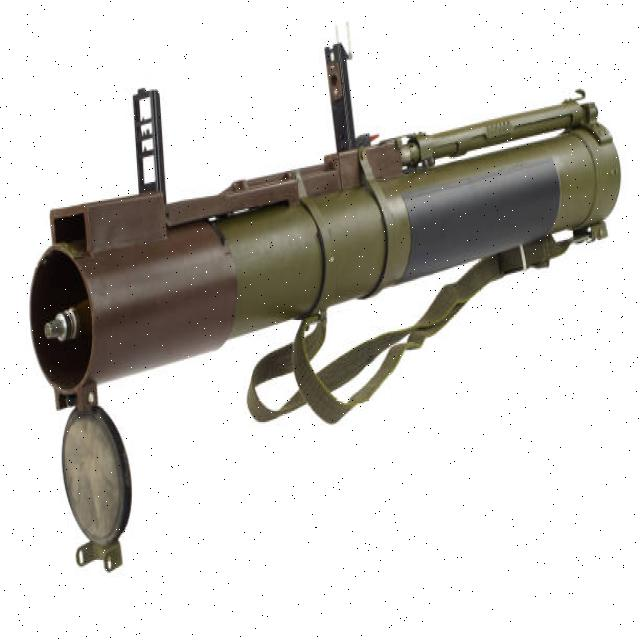bazooka: (22, 21, 627, 578)
